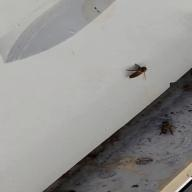Bee: (152, 110, 186, 140), (124, 59, 156, 82)
